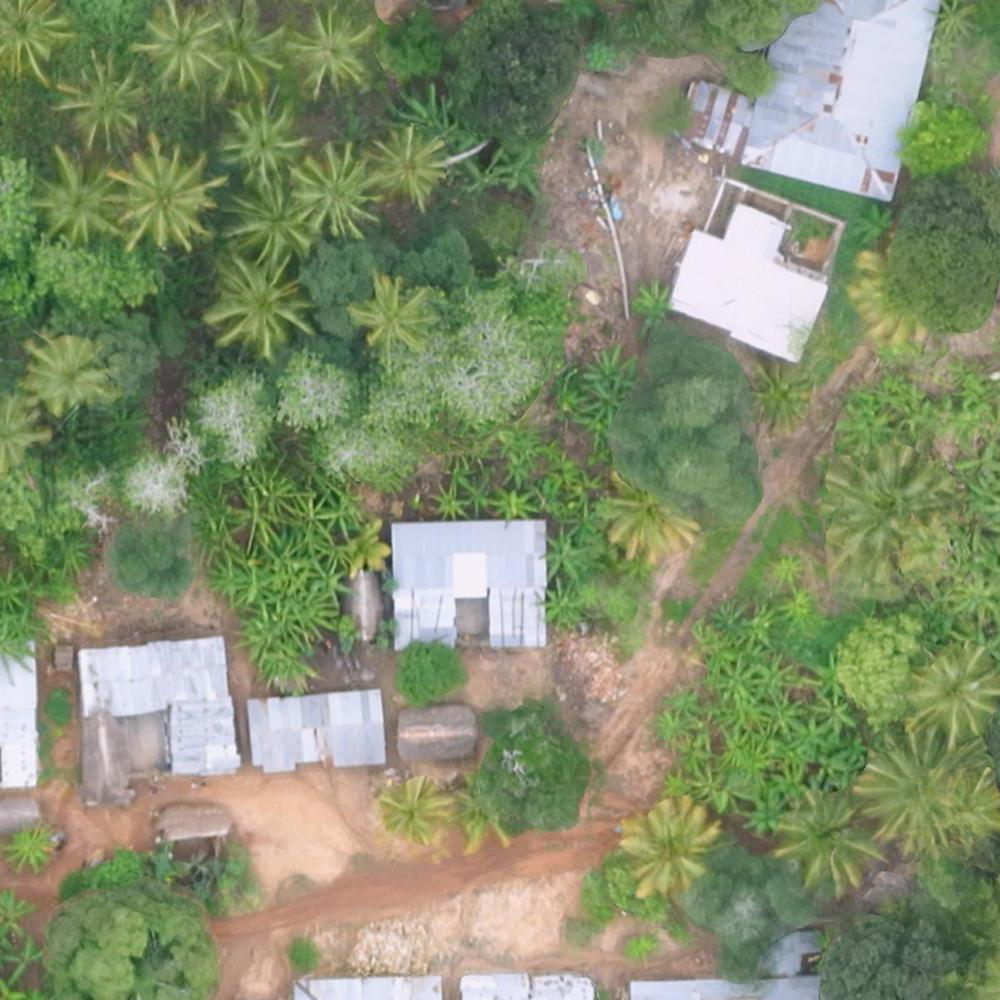Palm: (821, 449, 946, 567), (111, 144, 219, 248), (862, 735, 965, 841), (205, 256, 311, 357), (777, 788, 880, 889), (602, 472, 698, 563), (33, 148, 125, 241), (221, 180, 320, 266), (621, 802, 714, 890), (910, 643, 993, 739), (285, 10, 374, 99), (217, 99, 307, 185), (292, 143, 375, 236), (134, 5, 222, 88), (61, 55, 141, 144), (27, 333, 111, 417), (212, 4, 291, 93), (347, 278, 431, 356), (2, 2, 80, 82), (365, 127, 442, 206), (382, 780, 452, 843)
